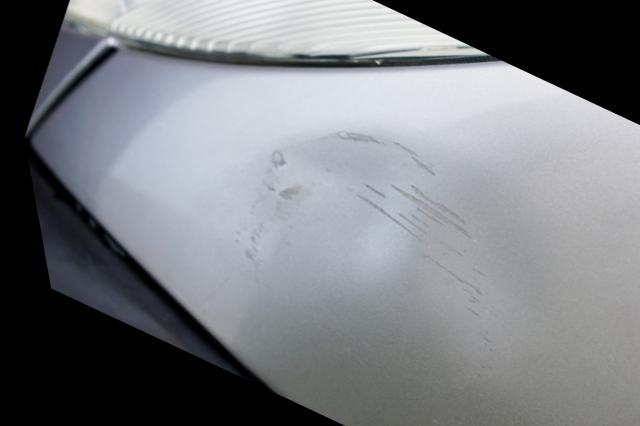dent: (223, 135, 518, 383)
